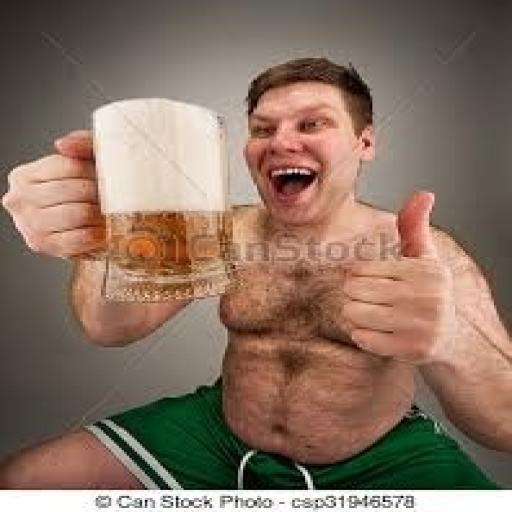drinking: (90, 94, 236, 304)
